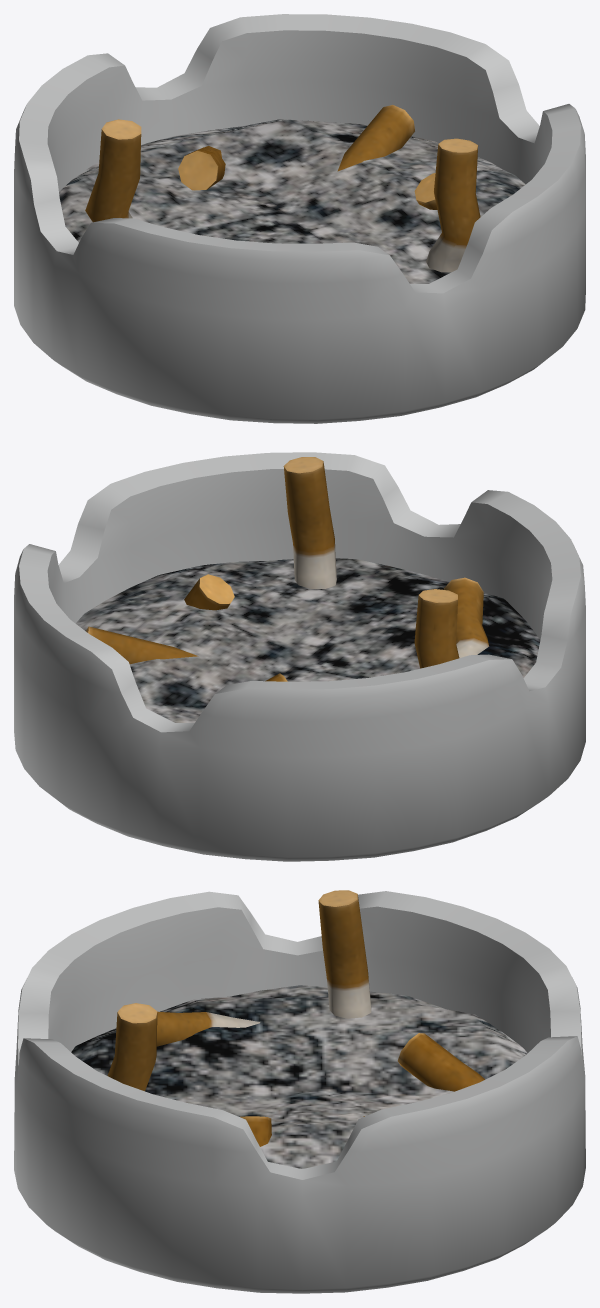
The model's file is Prop_Ashtray_x3.fbx.
The picture shows the model from 3 angles, top to bottom: view 1: azimuth 30°, elevation 25°; view 2: azimuth 150°, elevation 25°; view 3: azimuth 270°, elevation 25°; orthographic projection.
Visible parts, largest first — view 1: Prop_Ashtray_x3; view 2: Prop_Ashtray_x3; view 3: Prop_Ashtray_x3.
Part boxes in pixels (bbox=[...]): Prop_Ashtray_x3: bbox=[14, 14, 585, 423]; Prop_Ashtray_x3: bbox=[14, 452, 585, 861]; Prop_Ashtray_x3: bbox=[14, 890, 585, 1293].
Size of the model in its own units: 5.55 by 2.18 by 5.55.
